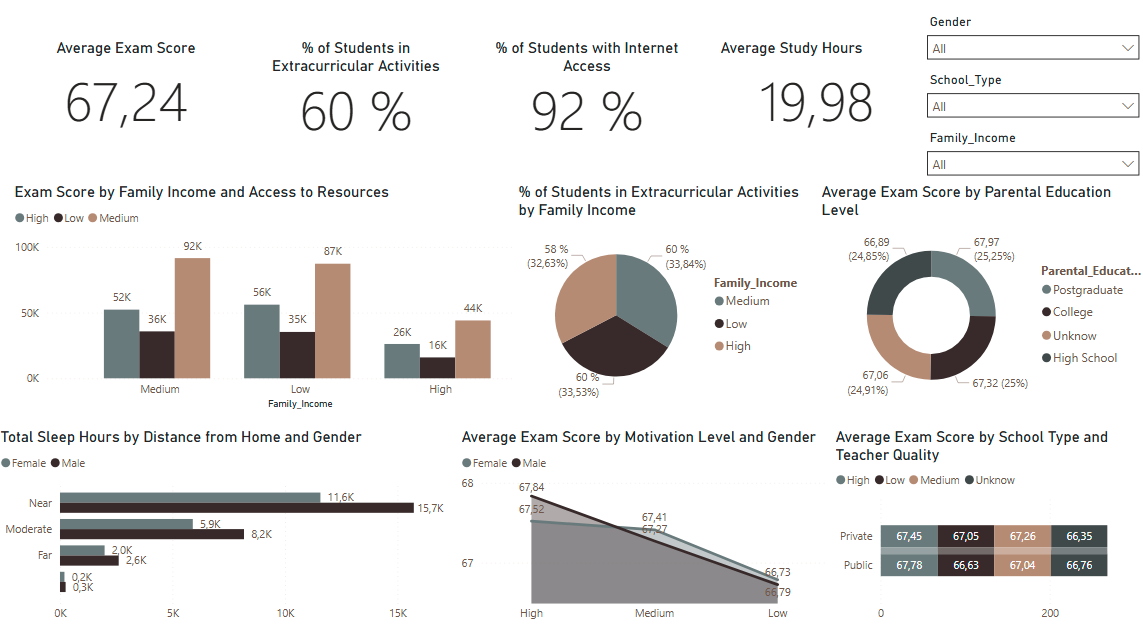

The page's visual inventory and layout, read from the dashboard file:
{"tool":"powerbi","page":{"name":"Page 1","canvas":[1280,720],"ordinal":0},"visuals":[{"type":"card","title":"Average Exam Score","fields":{"Values":["Avg(StudentPerformanceFactors.Exam_Score)"]},"box":[48,48,224,112],"z":0},{"type":"card","title":"% of Students in Extracurricular Activities","fields":{"Values":["StudentPerformanceFactors.- % d'étudiants ayant des activités extra-scolaires"]},"box":[288,48,224,112],"z":1000},{"type":"card","title":"% of Students with Internet Access","fields":{"Values":["StudentPerformanceFactors.- % d'étudiants avec accès à Internet"]},"box":[544,48,224,112],"z":2000},{"type":"card","title":"Average Study Hours","fields":{"Values":["Avg(StudentPerformanceFactors.Hours_Studied)"]},"box":[800,48,224,112],"z":3000},{"type":"clusteredColumnChart","title":"Exam Score by Family Income and Access to Resources","fields":{"Category":["StudentPerformanceFactors.Family_Income"],"Series":["StudentPerformanceFactors.Access_to_Resources"],"Y":["Sum(StudentPerformanceFactors.Exam_Score)"]},"box":[16,208,608,256],"z":4000},{"type":"pieChart","title":"% of Students in Extracurricular Activities by Family Income","fields":{"Category":["StudentPerformanceFactors.Family_Income"],"Y":["StudentPerformanceFactors.- % d'étudiants ayant des activités extra-scolaires"]},"box":[576,208,336,256],"z":5000},{"type":"donutChart","title":"Average Exam Score by Parental Education Level","fields":{"Category":["StudentPerformanceFactors.Parental_Education_Level"],"Y":["Avg(StudentPerformanceFactors.Exam_Score)"]},"box":[912,208,368,256],"z":6000},{"type":"clusteredBarChart","title":"Total Sleep Hours by Distance from Home and Gender","fields":{"Category":["StudentPerformanceFactors.Distance_from_Home"],"Series":["StudentPerformanceFactors.Gender"],"Y":["Sum(StudentPerformanceFactors.Sleep_Hours)"]},"box":[0,480,512,224],"z":7000},{"type":"areaChart","title":"Average Exam Score by Motivation Level and Gender","fields":{"Y":["Avg(StudentPerformanceFactors.Exam_Score)"],"Category":["StudentPerformanceFactors.Motivation_Level"],"Series":["StudentPerformanceFactors.Gender"]},"box":[512,480,416,224],"z":8000},{"type":"barChart","title":"Average Exam Score by School Type and Teacher Quality","fields":{"Category":["StudentPerformanceFactors.School_Type"],"Y":["Avg(StudentPerformanceFactors.Exam_Score)"],"Series":["StudentPerformanceFactors.Teacher_Quality"]},"box":[928,480,352,224],"z":9000},{"type":"slicer","fields":{"Values":["StudentPerformanceFactors.Gender"]},"box":[1024,16,256,64],"z":10000},{"type":"slicer","fields":{"Values":["StudentPerformanceFactors.School_Type"]},"box":[1024,80,256,64],"z":11000},{"type":"slicer","fields":{"Values":["StudentPerformanceFactors.Family_Income"]},"box":[1024,144,256,64],"z":12000}]}

Visuals, with their boxes in screenshot pixels (x1, y1, x2, y2), scaled from the page's 1280x720 canvas onto the 1143x641 screenshot:
"Average Exam Score" card: (left=43, top=43, right=243, bottom=142)
"% of Students in Extracurricular Activities" card: (left=257, top=43, right=457, bottom=142)
"% of Students with Internet Access" card: (left=486, top=43, right=686, bottom=142)
"Average Study Hours" card: (left=714, top=43, right=914, bottom=142)
"Exam Score by Family Income and Access to Resources" clusteredColumnChart: (left=14, top=185, right=557, bottom=413)
"% of Students in Extracurricular Activities by Family Income" pieChart: (left=514, top=185, right=814, bottom=413)
"Average Exam Score by Parental Education Level" donutChart: (left=814, top=185, right=1142, bottom=413)
"Total Sleep Hours by Distance from Home and Gender" clusteredBarChart: (left=0, top=427, right=457, bottom=627)
"Average Exam Score by Motivation Level and Gender" areaChart: (left=457, top=427, right=829, bottom=627)
"Average Exam Score by School Type and Teacher Quality" barChart: (left=829, top=427, right=1142, bottom=627)
slicer - StudentPerformanceFactors.Gender: (left=914, top=14, right=1142, bottom=71)
slicer - StudentPerformanceFactors.School_Type: (left=914, top=71, right=1142, bottom=128)
slicer - StudentPerformanceFactors.Family_Income: (left=914, top=128, right=1142, bottom=185)
